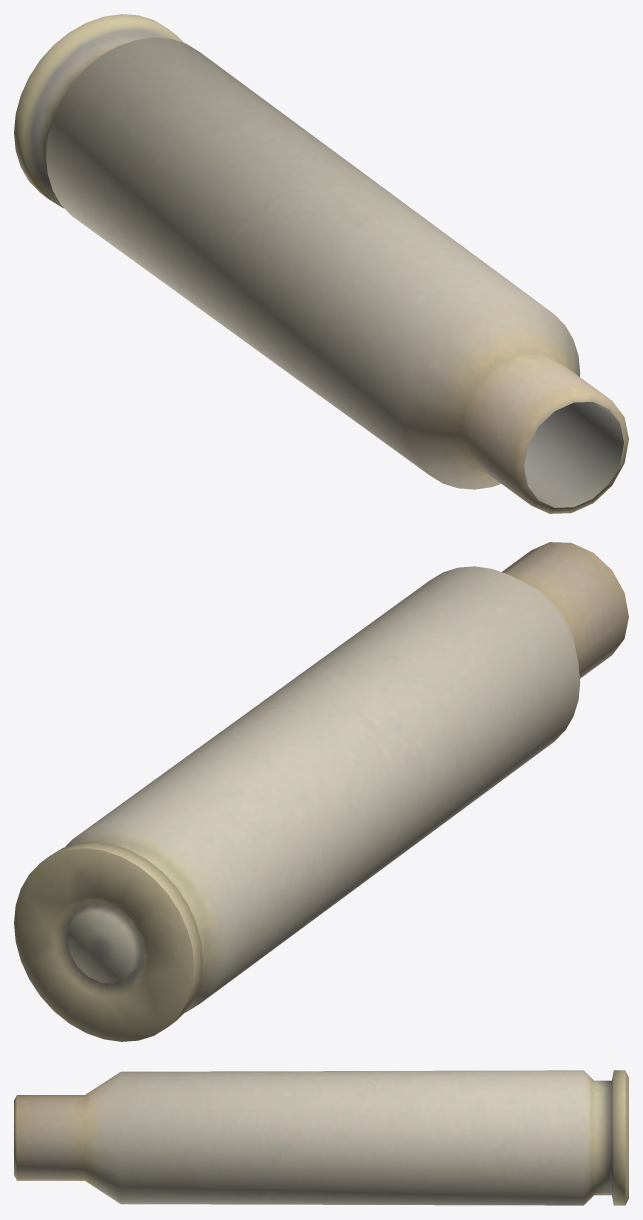
The model's file is casing_awp_casing.glb.
3 views of the same model, one above another, from view 1: azimuth 30°, elevation 25°; view 2: azimuth 150°, elevation 25°; view 3: azimuth 270°, elevation 25° (orthographic). The views are drawn at different scales.
Visible parts, largest first — view 1: casing_awp_casing; view 2: casing_awp_casing; view 3: casing_awp_casing.
Boxes of the visible parts, bbox=[...] form: casing_awp_casing: bbox=[14, 14, 628, 513]; casing_awp_casing: bbox=[14, 542, 628, 1041]; casing_awp_casing: bbox=[14, 1070, 628, 1205].
Bounding box in the file's own units: 0.0125 × 0.0125 × 0.057.
Materials: 1 (1 with a texture image).
